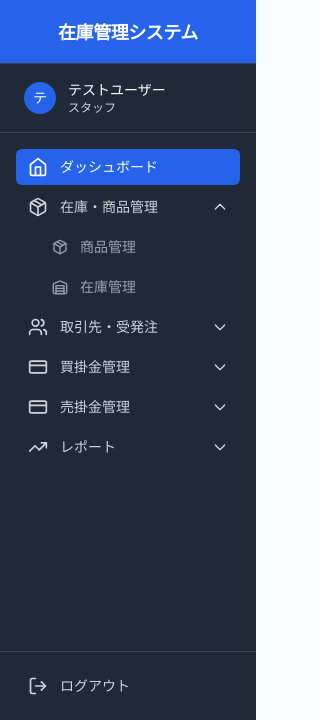
Test: Sidebar › セクション開閉 › should toggle partners section on click
Expected: the text "取引先管理" is not shown
// クリックして開く
Step 1. Click the button "取引先・受発注" → (128, 327), box [16,309,240,345]
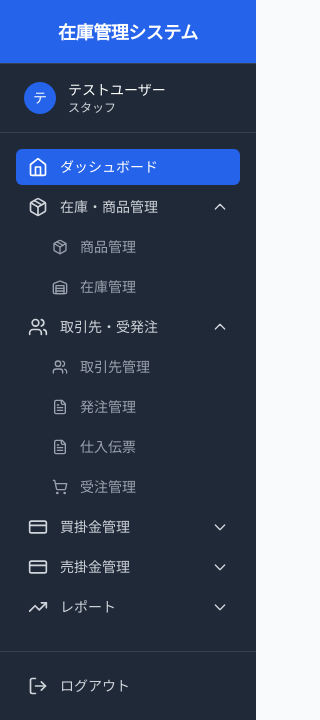
Now the link "取引先管理" is shown, box [52,358,150,375]
Now the link "発注管理" is shown, box [52,398,136,415]
